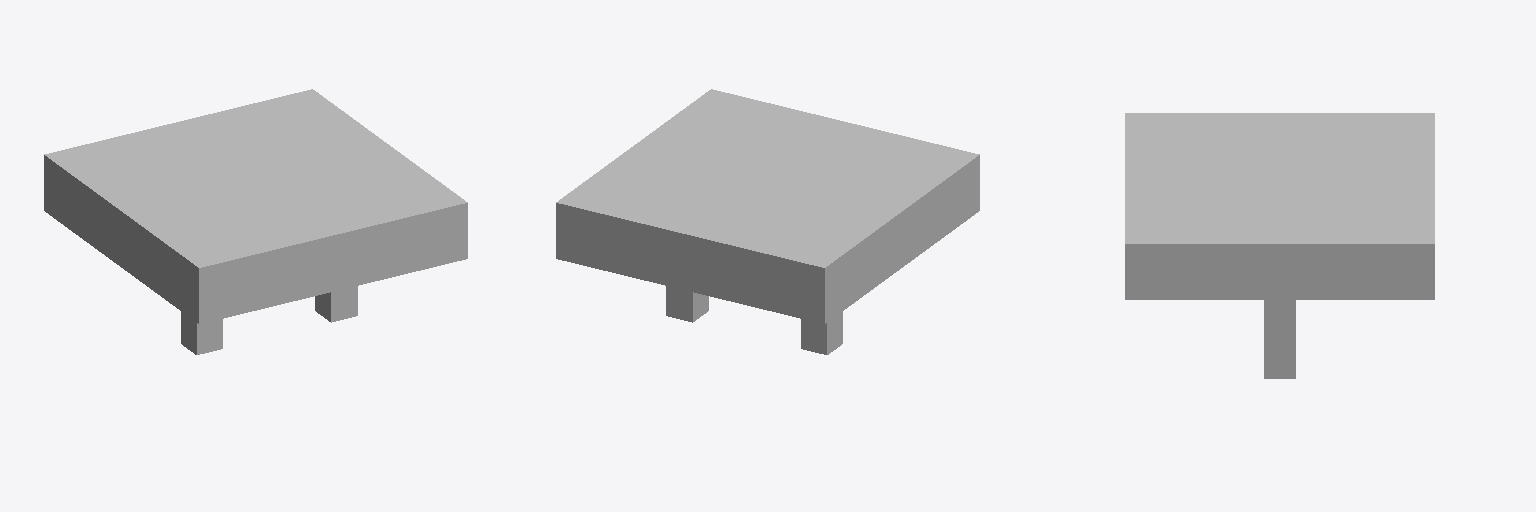
File: repeateroff-3.obj
3 renders of one model, left to right at view 1: azimuth 30°, elevation 25°; view 2: azimuth 150°, elevation 25°; view 3: azimuth 270°, elevation 25°, orthographic.
Parts seen in each view (by area): view 1: Cube.001, Cube.004, Cube.005; view 2: Cube.001, Cube.004, Cube.005; view 3: Cube.001, Cube.003, Cube.005.
Part boxes in pixels (left/top/right/bottom): Cube.001: left=44, top=89, right=467, bottom=323; Cube.004: left=181, top=316, right=222, bottom=354; Cube.005: left=315, top=288, right=357, bottom=322; Cube.001: left=556, top=89, right=979, bottom=323; Cube.004: left=801, top=316, right=842, bottom=354; Cube.005: left=666, top=288, right=708, bottom=322; Cube.001: left=1125, top=113, right=1434, bottom=299; Cube.003: left=1264, top=300, right=1295, bottom=350; Cube.005: left=1264, top=351, right=1295, bottom=378.
Size of the model in its own units: 1 by 0.55 by 1.